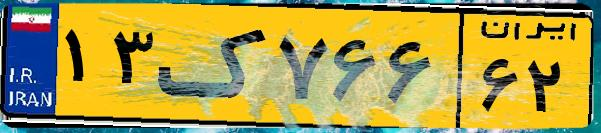1: (57, 26, 110, 100)
2: (525, 38, 570, 115)
3: (110, 28, 158, 98)
6: (385, 28, 445, 110), (330, 28, 385, 110), (475, 38, 525, 113)
7: (270, 28, 330, 110)
ک: (158, 12, 270, 120)
